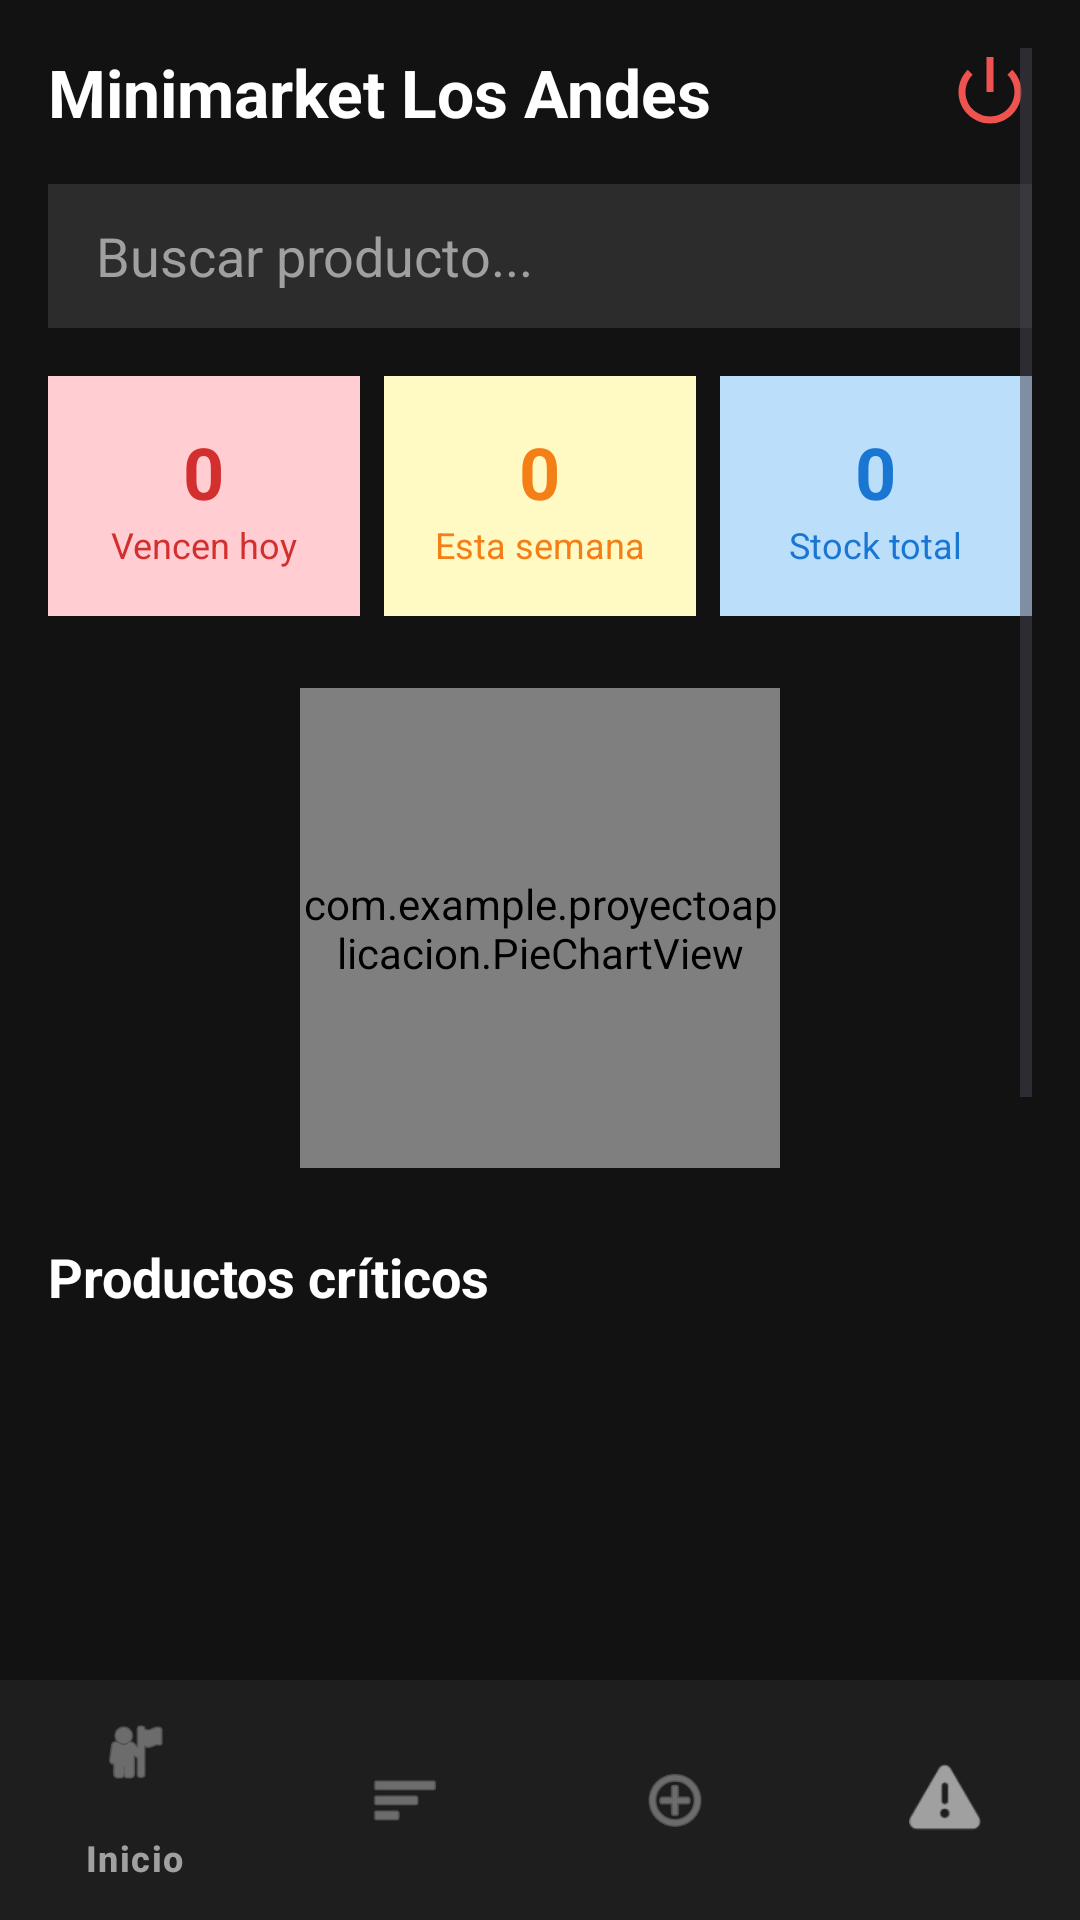

Point at icon controls on the screen. Image size 1080*1920, points as point (x, y).
lock power off: point (995, 92)
